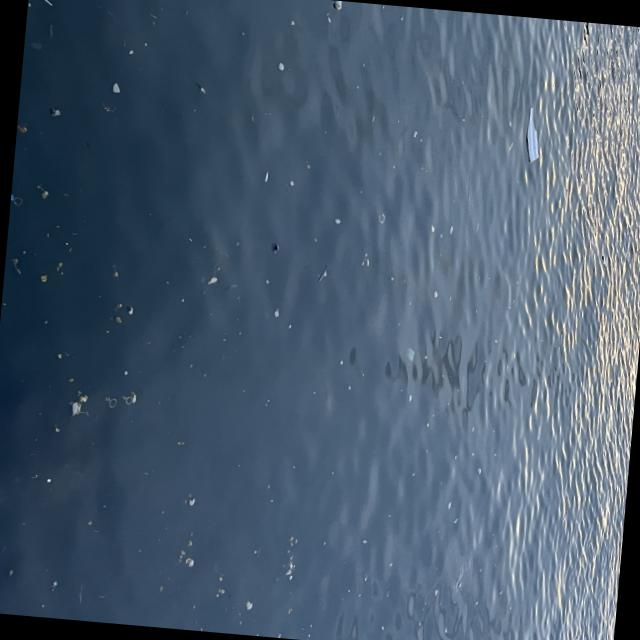plastic bottle: (523, 107, 543, 163), (403, 347, 414, 362), (32, 0, 52, 6)
